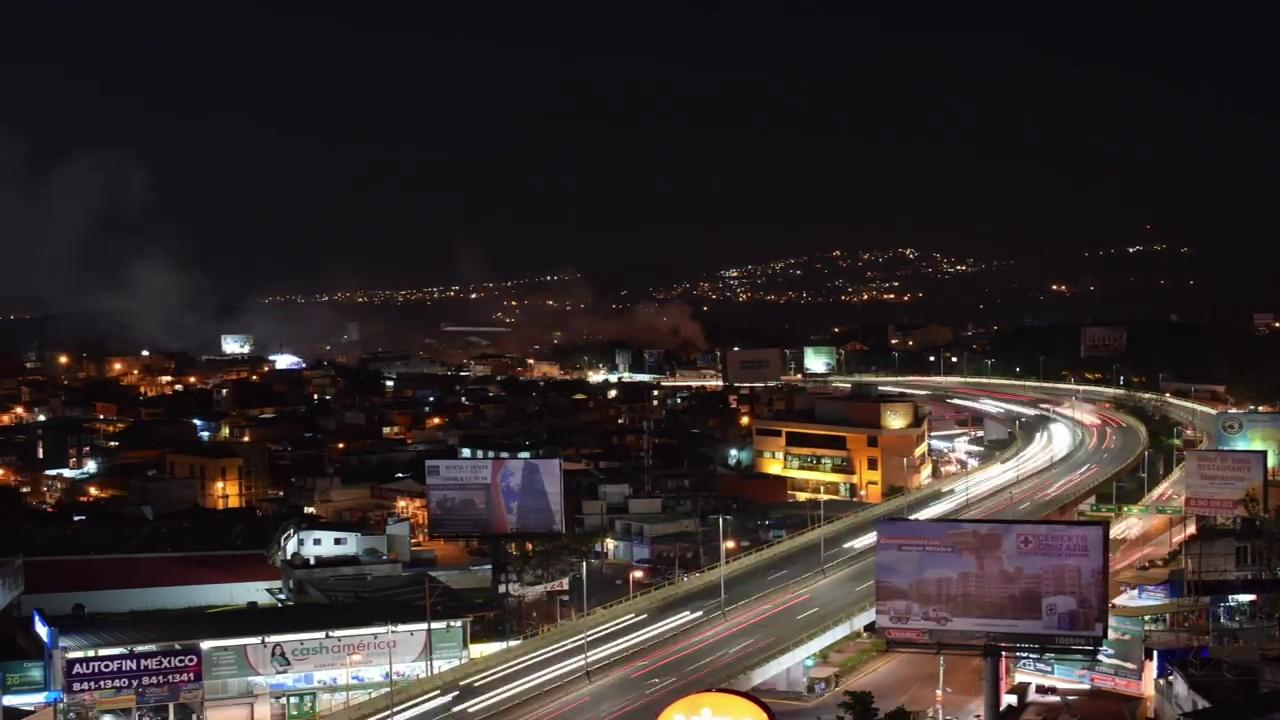smoke: (32, 216, 176, 336)
